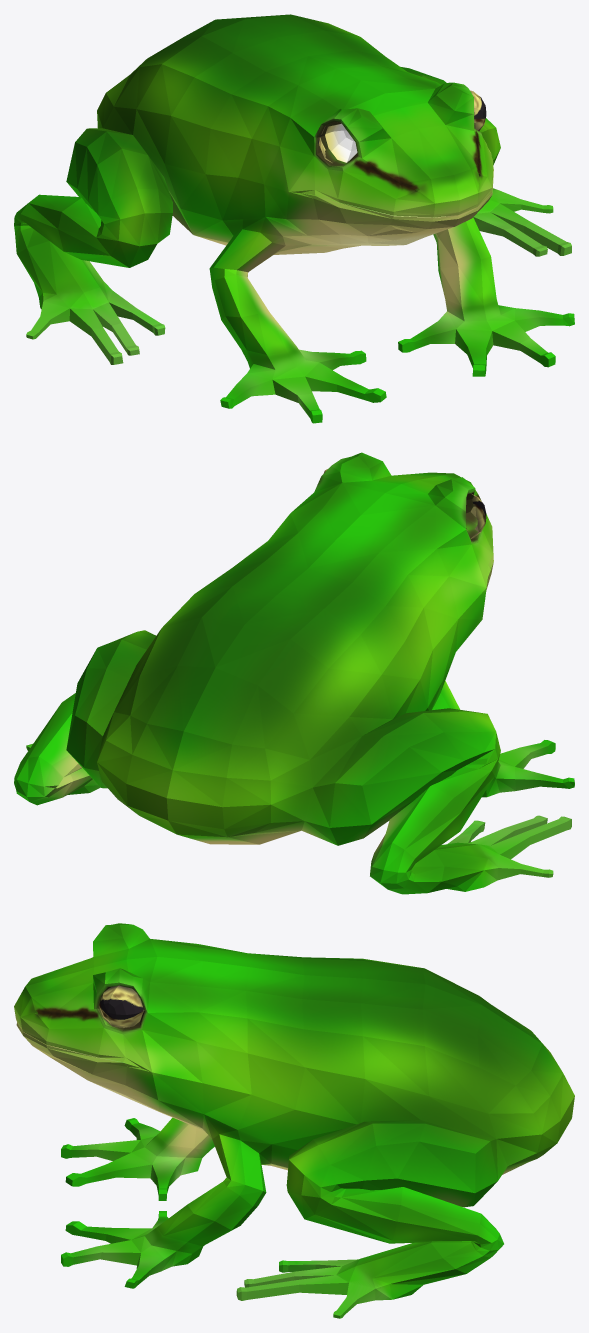
Rendered from 3264e7a3-fc71-4a6c-beea-2798cbe71f37.glb.
The picture shows the model from 3 angles, top to bottom: view 1: azimuth 30°, elevation 25°; view 2: azimuth 150°, elevation 25°; view 3: azimuth 270°, elevation 25°; orthographic projection. The views are drawn at different scales.
Parts seen in each view (by area): view 1: Node; view 2: Node; view 3: Node.
Boxes of the visible parts, bbox=[...] form: Node: bbox=[14, 14, 574, 423]; Node: bbox=[14, 452, 574, 894]; Node: bbox=[14, 923, 574, 1318].
Bounding box in the file's own units: 3.64 × 1.83 × 3.51.
2 materials, 2 textured.
